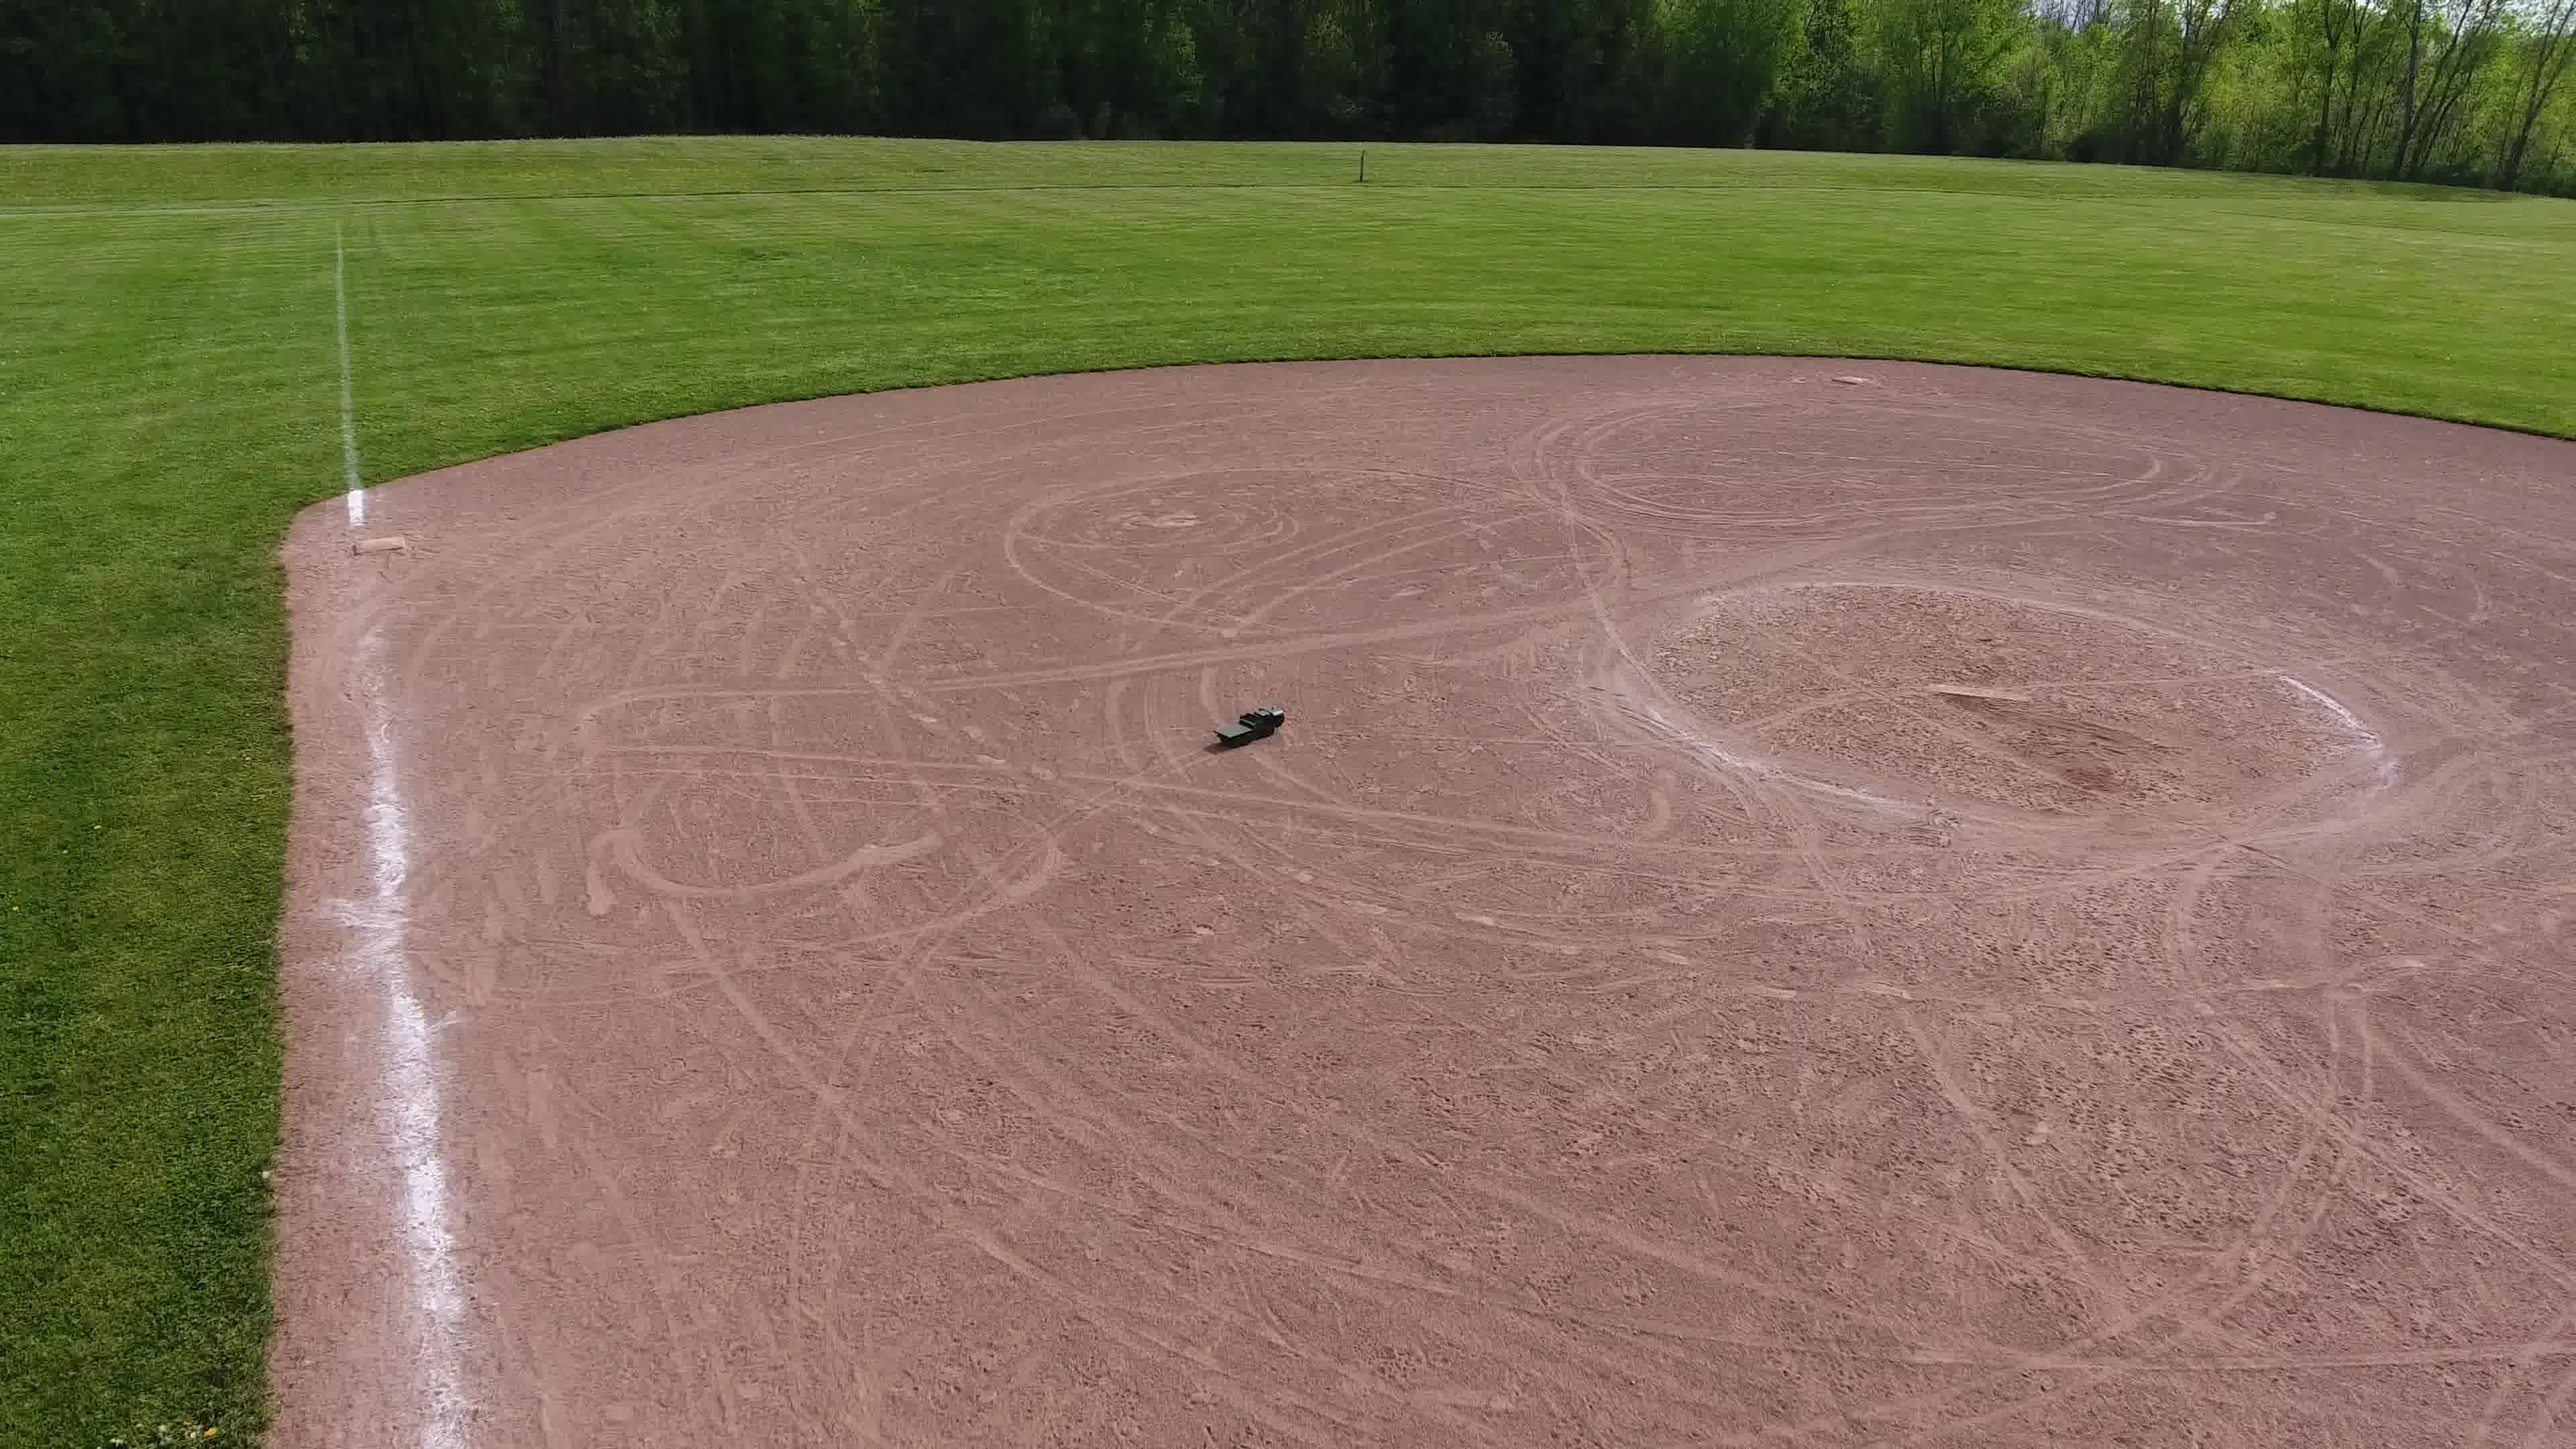transporter9: (1212, 702, 1288, 748)
